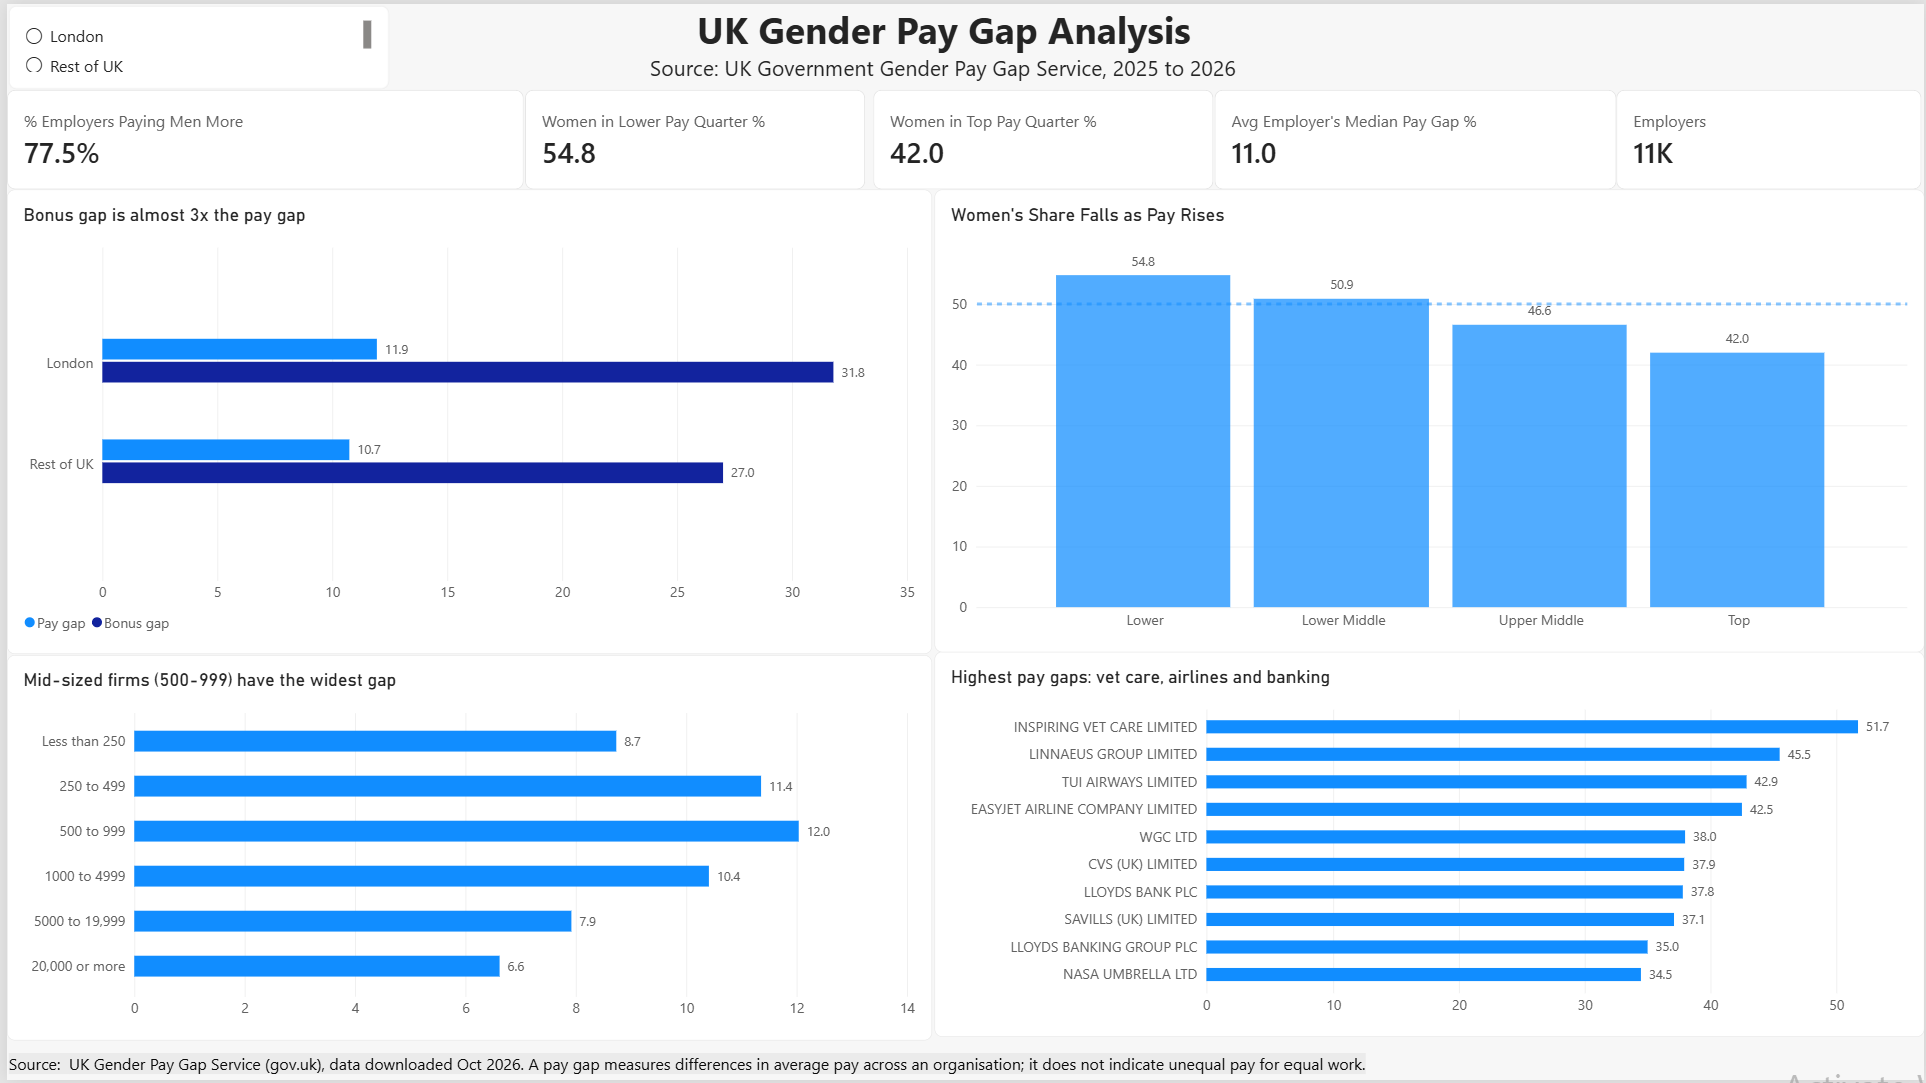

Layout of this report page (visuals, bound fields, positions):
{"tool":"powerbi","page":{"name":"Page 1","canvas":[1920,1080],"ordinal":0},"visuals":[{"type":"cardVisual","fields":{"Data":["GPG.% Employers Paying Men More"]},"box":[0,85.4,518.8,100],"z":0},{"type":"cardVisual","fields":{"Data":["GPG.Avg Median Pay Gap"]},"box":[1210.4,85.4,402.1,100],"z":1000},{"type":"cardVisual","fields":{"Data":["GPG.Avg Women in Lower Pay Quarter","GPG.Avg Women in Top Pay Quarter"]},"box":[518.8,85.4,691.7,100],"z":2000},{"type":"clusteredBarChart","title":"Bonus gap is almost 3x the pay gap","fields":{"Category":["GPG.Location"],"Y":["GPG.Median Pay Gap %","GPG.Median Bonus Gap (%)"]},"box":[0,186.2,927.7,466],"z":3000},{"type":"cardVisual","fields":{"Data":["GPG.Employers"]},"box":[1612.5,85.4,306.2,100],"z":4000},{"type":"clusteredBarChart","title":"Mid-sized firms (500-999) have the widest gap","fields":{"Category":["GPG.EmployerSize"],"Y":["GPG.Median Pay Gap %"]},"box":[0,652.7,927.7,387.2],"z":5000},{"type":"clusteredBarChart","title":"Highest pay gaps: vet care, airlines and banking","fields":{"Category":["GPG.EmployerName"],"Y":["GPG.Median Pay Gap %"]},"box":[929.6,649.4,991.5,387.2],"z":6000},{"type":"clusteredColumnChart","title":"Women''s Share Falls as Pay Rises","fields":{"Category":["Quartiles.Quartile"],"Y":["Avg(Quartiles.Value)"]},"box":[929.6,186.2,991.5,463.8],"z":7000},{"type":"textbox","box":[2.1,0,1917,85.1],"z":8000},{"type":"listSlicer","fields":{"Values":["GPG.Location"]},"box":[2.1,2.1,381.2,83.3],"z":8001},{"type":"textbox","box":[1.6,1053.2,1916.8,26.4],"z":8002}]}

Visuals, with their boxes in screenshot pixels (x1, y1, x2, y2), scaled from the page's 1920x1080 canvas onto the 1926x1083 screenshot:
cardVisual - GPG.% Employers Paying Men More: [left=0, top=86, right=520, bottom=186]
cardVisual - GPG.Avg Median Pay Gap: [left=1214, top=86, right=1618, bottom=186]
cardVisual - GPG.Avg Women in Lower Pay Quarter x GPG.Avg Women in Top Pay Quarter: [left=520, top=86, right=1214, bottom=186]
"Bonus gap is almost 3x the pay gap" clusteredBarChart: [left=0, top=187, right=931, bottom=654]
cardVisual - GPG.Employers: [left=1618, top=86, right=1925, bottom=186]
"Mid-sized firms (500-999) have the widest gap" clusteredBarChart: [left=0, top=655, right=931, bottom=1043]
"Highest pay gaps: vet care, airlines and banking" clusteredBarChart: [left=933, top=651, right=1925, bottom=1039]
"Women''s Share Falls as Pay Rises" clusteredColumnChart: [left=933, top=187, right=1925, bottom=652]
textbox: [left=2, top=0, right=1925, bottom=85]
listSlicer - GPG.Location: [left=2, top=2, right=384, bottom=86]
textbox: [left=2, top=1056, right=1924, bottom=1082]
